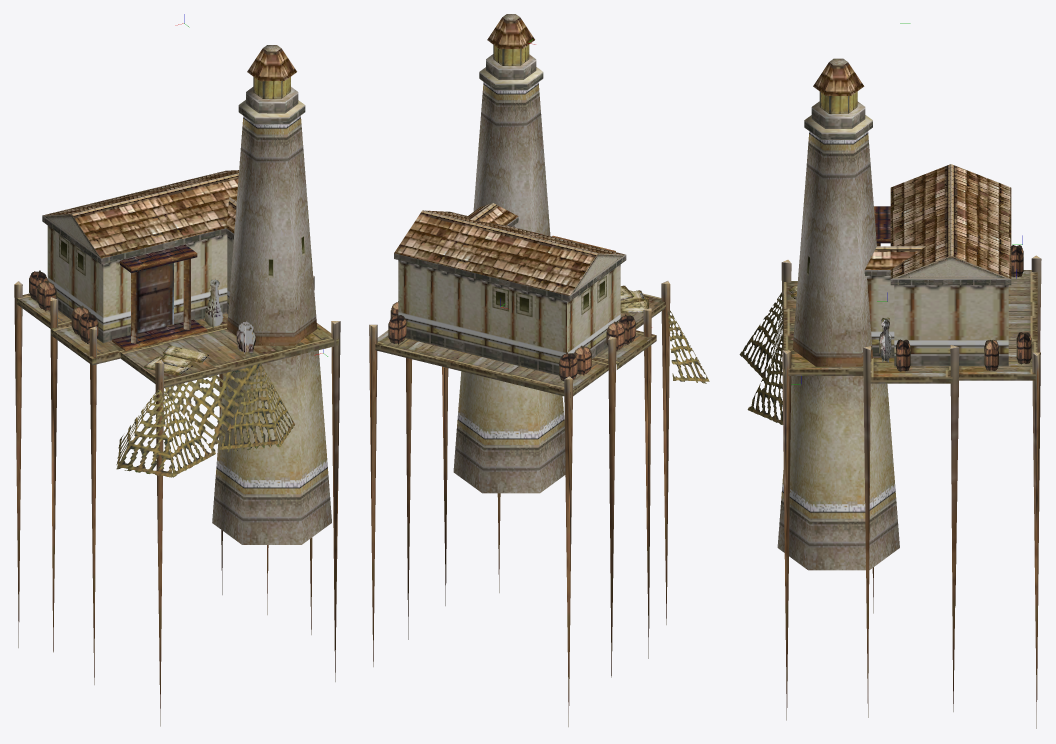
Rendered from age0.glb.
3 views of the same model, side by side, from view 1: azimuth 30°, elevation 25°; view 2: azimuth 150°, elevation 25°; view 3: azimuth 270°, elevation 25° (orthographic). The views are drawn at different scales.
Parts seen in each view (by area): view 1: building g tradedockage0Model; view 2: building g tradedockage0Model; view 3: building g tradedockage0Model.
Boxes of the visible parts, box(x1,y1,x2,y2) form: building g tradedockage0Model: box(14, 45, 340, 726); building g tradedockage0Model: box(369, 14, 709, 726); building g tradedockage0Model: box(739, 58, 1041, 728).
Size of the model in its own units: 6.64 by 17.31 by 7.06.
Materials: 5 (4 with a texture image).
